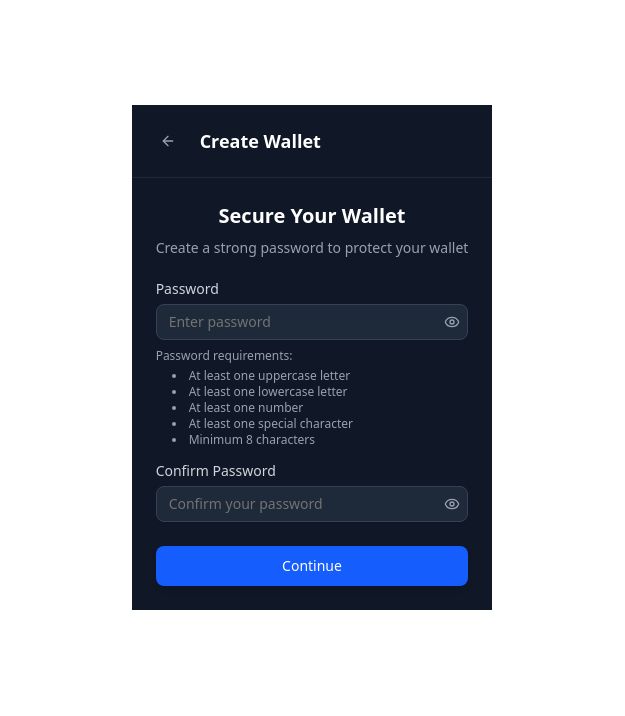
Test: CreateWallet component › successful password submit moves to step 2 and shows seed phrase
Type "StrongPass1!" into the password field with placeholder "Enter password". click: [312, 322]
box: [156, 304, 468, 340]
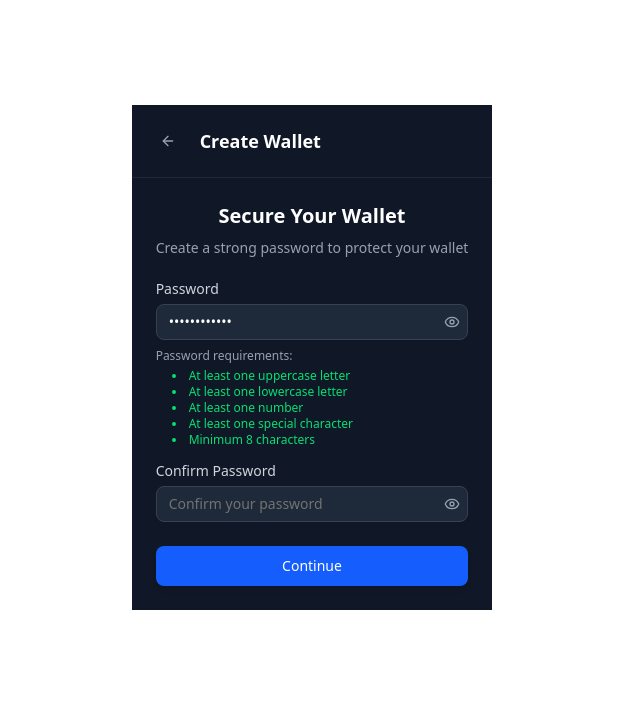
Type "StrongPass1!" into the password field with placeholder "Confirm your password". click: [312, 504]
box: [156, 486, 468, 522]
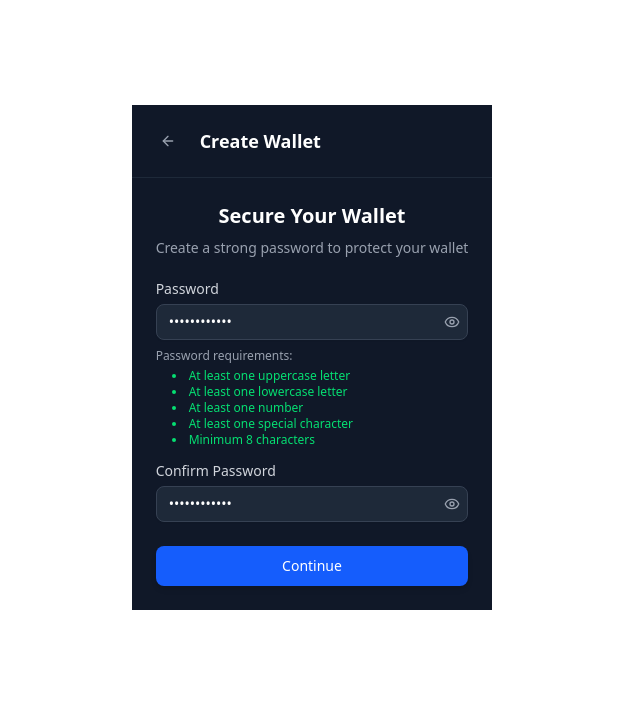
Click the button "Continue". click: [312, 566]
box: [156, 546, 468, 586]
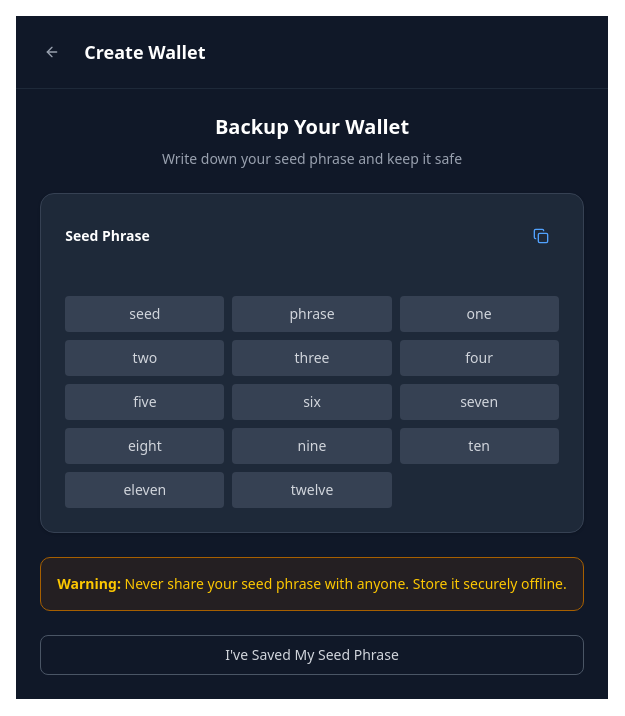
Result: the heading "Backup Your Wallet" is shown at [215, 112, 409, 140]
Result: the text "seed" is shown at [65, 296, 224, 332]
Result: the text "phrase" is shown at [232, 296, 392, 332]
